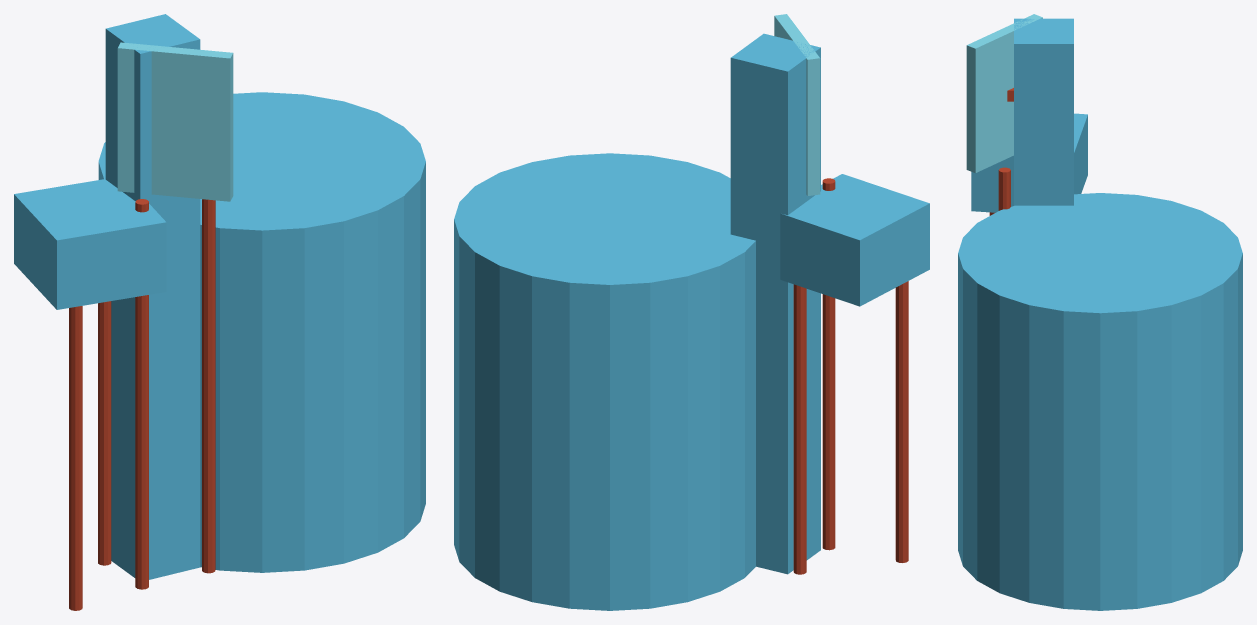
Rendered from folie_tag_116.glb.
3 views of the same model, side by side, from view 1: azimuth 30°, elevation 25°; view 2: azimuth 150°, elevation 25°; view 3: azimuth 270°, elevation 25° (orthographic). The views are drawn at different scales.
Visible parts, largest first — view 1: folie_tag_116_00_drum, folie_tag_116_core, folie_tag_116_line, folie_tag_116_02_block, folie_tag_116_01_panel; view 2: folie_tag_116_00_drum, folie_tag_116_core, folie_tag_116_02_block, folie_tag_116_line, folie_tag_116_01_panel; view 3: folie_tag_116_00_drum, folie_tag_116_core, folie_tag_116_01_panel, folie_tag_116_02_block, folie_tag_116_line.
Boxes of the visible parts, left/top/right/bottom form: folie_tag_116_00_drum: left=98, top=92, right=425, bottom=572; folie_tag_116_core: left=105, top=14, right=200, bottom=579; folie_tag_116_line: left=69, top=199, right=215, bottom=610; folie_tag_116_02_block: left=14, top=179, right=166, bottom=309; folie_tag_116_01_panel: left=117, top=42, right=233, bottom=201; folie_tag_116_00_drum: left=454, top=153, right=755, bottom=610; folie_tag_116_core: left=730, top=33, right=820, bottom=574; folie_tag_116_02_block: left=780, top=174, right=929, bottom=306; folie_tag_116_line: left=793, top=178, right=908, bottom=574; folie_tag_116_01_panel: left=774, top=14, right=820, bottom=195; folie_tag_116_00_drum: left=958, top=193, right=1242, bottom=610; folie_tag_116_core: left=1014, top=18, right=1073, bottom=205; folie_tag_116_01_panel: left=966, top=14, right=1042, bottom=172; folie_tag_116_02_block: left=971, top=113, right=1087, bottom=212; folie_tag_116_line: left=989, top=88, right=1013, bottom=215.
Bounding box in the file's own units: 7.56 × 9.26 × 5.2.
